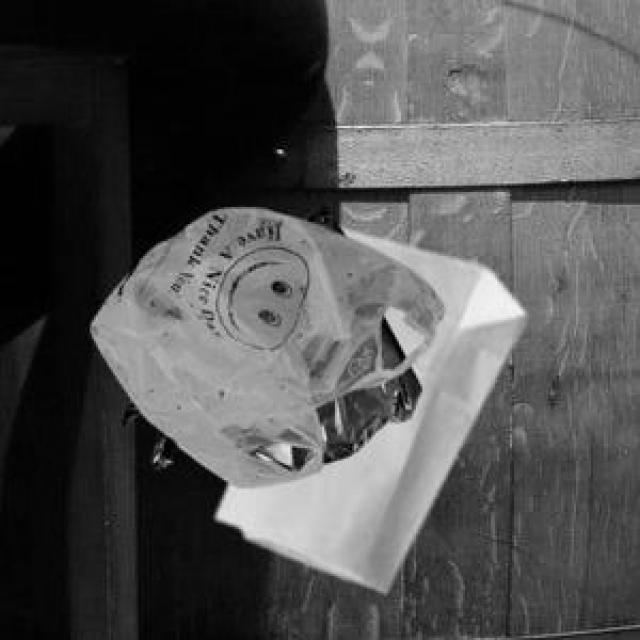miscellaneous trash: (118, 203, 416, 467)
paper: (213, 224, 521, 587)
